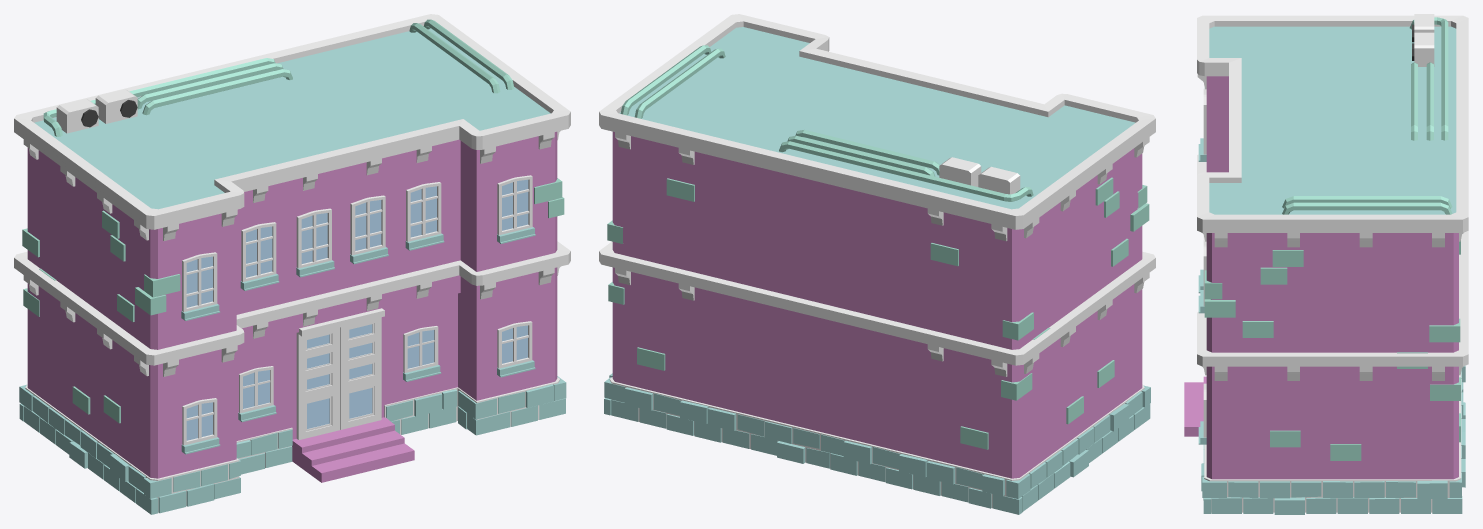
File: 2Story_Wide_Mat.fbx
3 views of the same model, side by side, from view 1: azimuth 30°, elevation 25°; view 2: azimuth 150°, elevation 25°; view 3: azimuth 270°, elevation 25° (orthographic).
Parts seen in each view (by area): view 1: 2Story_Wide_Mat; view 2: 2Story_Wide_Mat; view 3: 2Story_Wide_Mat.
Part boxes in pixels (x1,y1,x2,y2): 2Story_Wide_Mat: [14, 14, 570, 514]; 2Story_Wide_Mat: [599, 14, 1155, 514]; 2Story_Wide_Mat: [1184, 14, 1468, 514].
Size of the model in its own units: 383 by 275 by 226.
